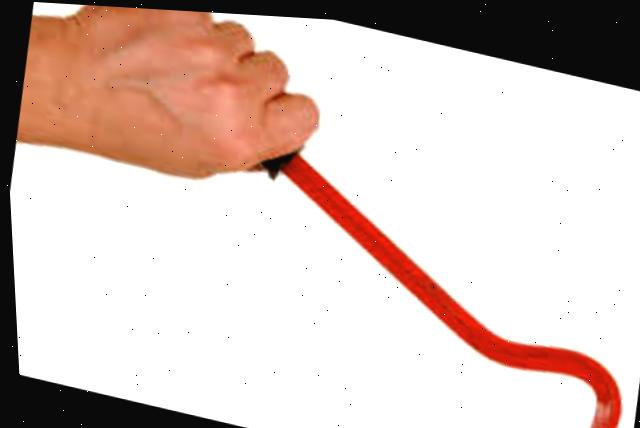crow bar: (239, 141, 640, 428)
